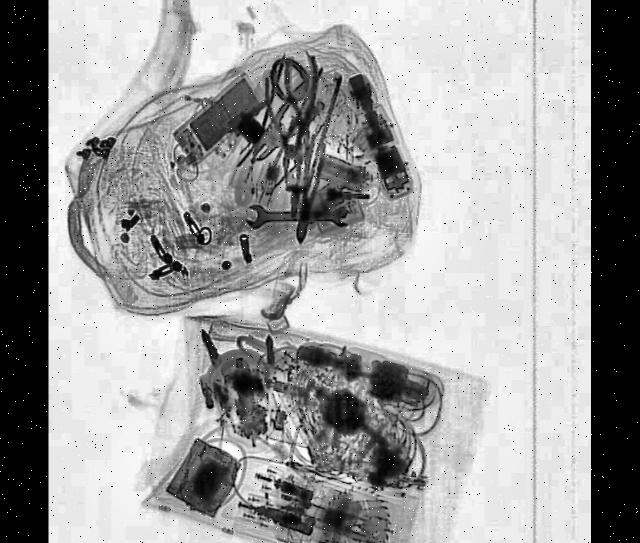Pliers: (265, 52, 320, 177), (292, 131, 332, 244), (288, 57, 320, 138)
Wrench: (247, 200, 352, 228)
